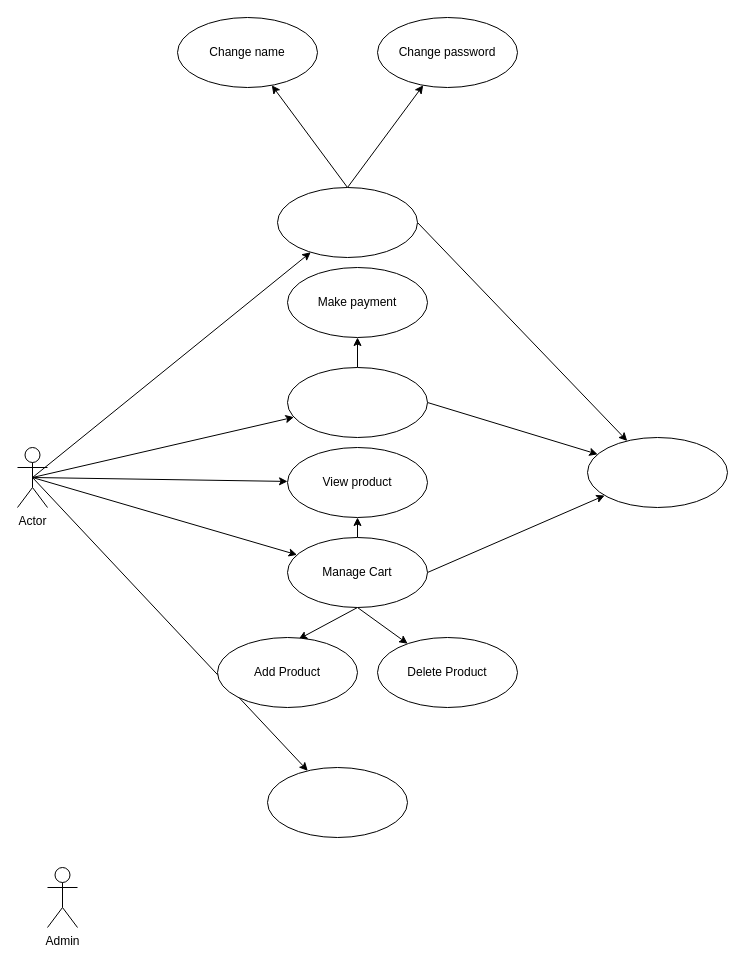
This 745x966 diagram has some shape labels left out. The shapes that lost their labels are listed below. From the top down, each one's centre as x and y in pixels, then its label:
[347,222]: Edit Profile
[357,402]: Make order
[657,472]: Log in
[337,802]: Register
